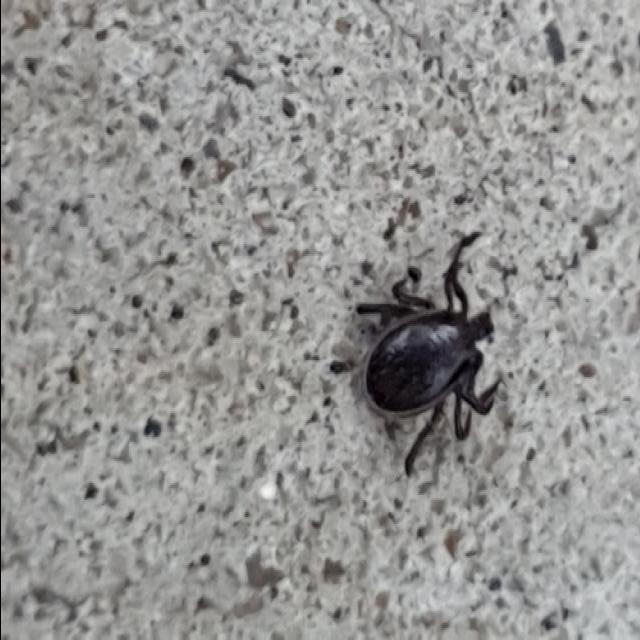Ixodes Ricinus-M: (356, 232, 499, 476)
